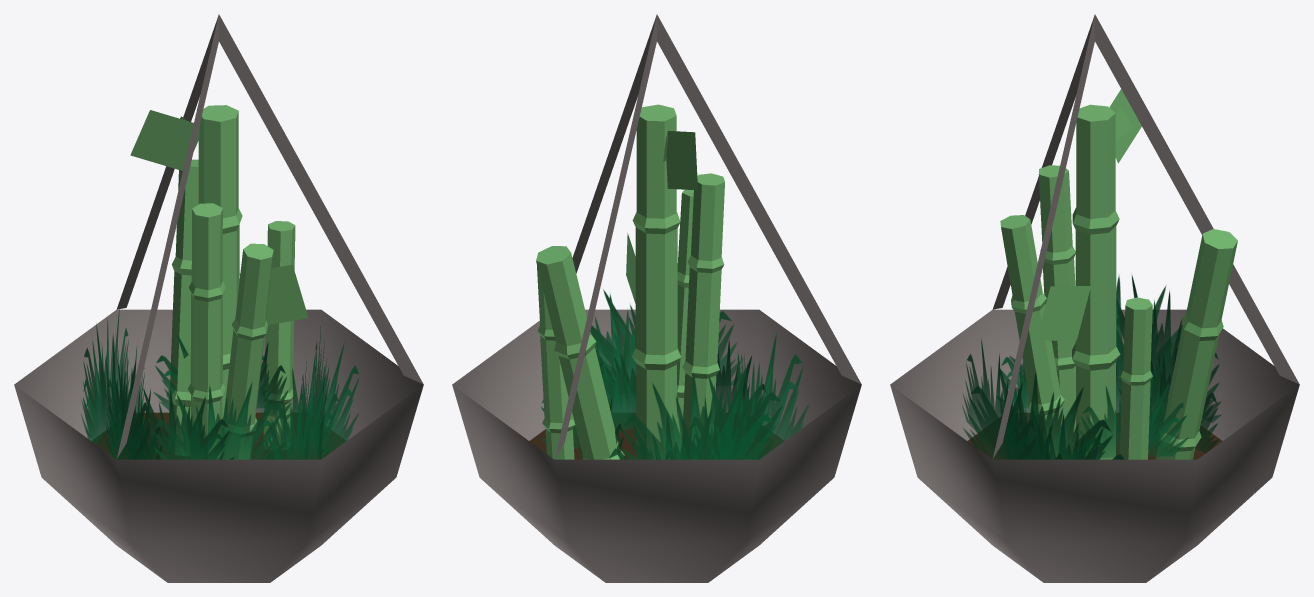
Rendered from pot.glb.
3 renders of one model, left to right at view 1: azimuth 30°, elevation 25°; view 2: azimuth 150°, elevation 25°; view 3: azimuth 270°, elevation 25°, orthographic.
Visible parts, largest first — view 1: Sphere, Sphere.006, Sphere.001, Sphere.002, Sphere.003, Sphere.004, Sphere.005; view 2: Sphere, Sphere.006, Sphere.001, Sphere.002, Sphere.004, Sphere.005, Sphere.003; view 3: Sphere, Sphere.001, Sphere.006, Sphere.004, Sphere.003, Sphere.002, Sphere.005.
Part boxes in pixels (bbox=[...]): Sphere: bbox=[14, 14, 423, 582]; Sphere.006: bbox=[81, 308, 359, 459]; Sphere.001: bbox=[130, 105, 308, 427]; Sphere.002: bbox=[188, 203, 225, 459]; Sphere.003: bbox=[221, 243, 273, 459]; Sphere.004: bbox=[166, 159, 198, 455]; Sphere.005: bbox=[262, 221, 295, 450]; Sphere: bbox=[452, 14, 861, 582]; Sphere.006: bbox=[541, 289, 808, 459]; Sphere.001: bbox=[626, 104, 697, 459]; Sphere.002: bbox=[682, 173, 724, 445]; Sphere.004: bbox=[536, 246, 624, 459]; Sphere.005: bbox=[537, 265, 575, 459]; Sphere.003: bbox=[677, 189, 693, 452]; Sphere: bbox=[890, 14, 1299, 582]; Sphere.001: bbox=[1036, 89, 1141, 459]; Sphere.006: bbox=[962, 275, 1221, 459]; Sphere.004: bbox=[1155, 229, 1237, 459]; Sphere.003: bbox=[1000, 215, 1068, 458]; Sphere.002: bbox=[1038, 165, 1075, 453]; Sphere.005: bbox=[1119, 297, 1152, 459].
Size of the model in its own units: 1.73 by 3 by 2.
4 materials, 1 textured.
